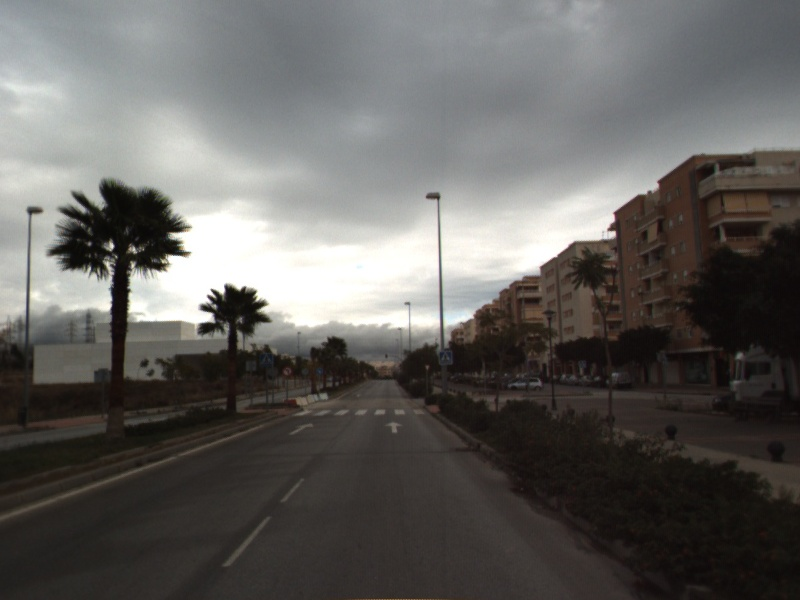STRAIGHT: (287, 421, 315, 437), (383, 419, 404, 435)
